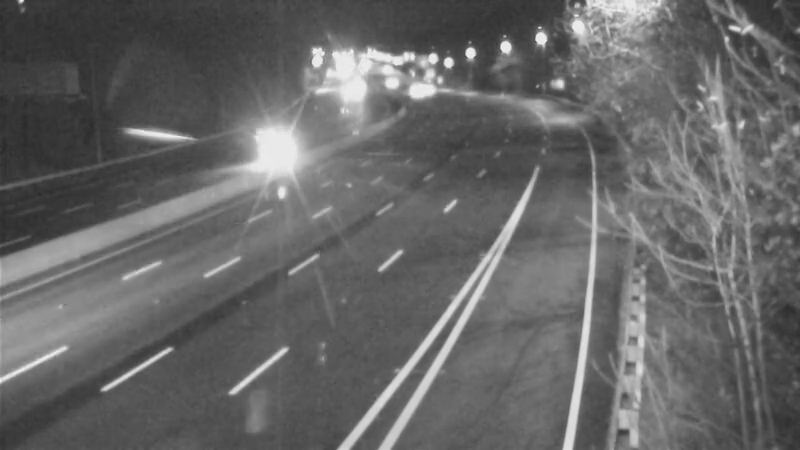vehicle: (393, 68, 443, 118), (252, 123, 302, 173)
